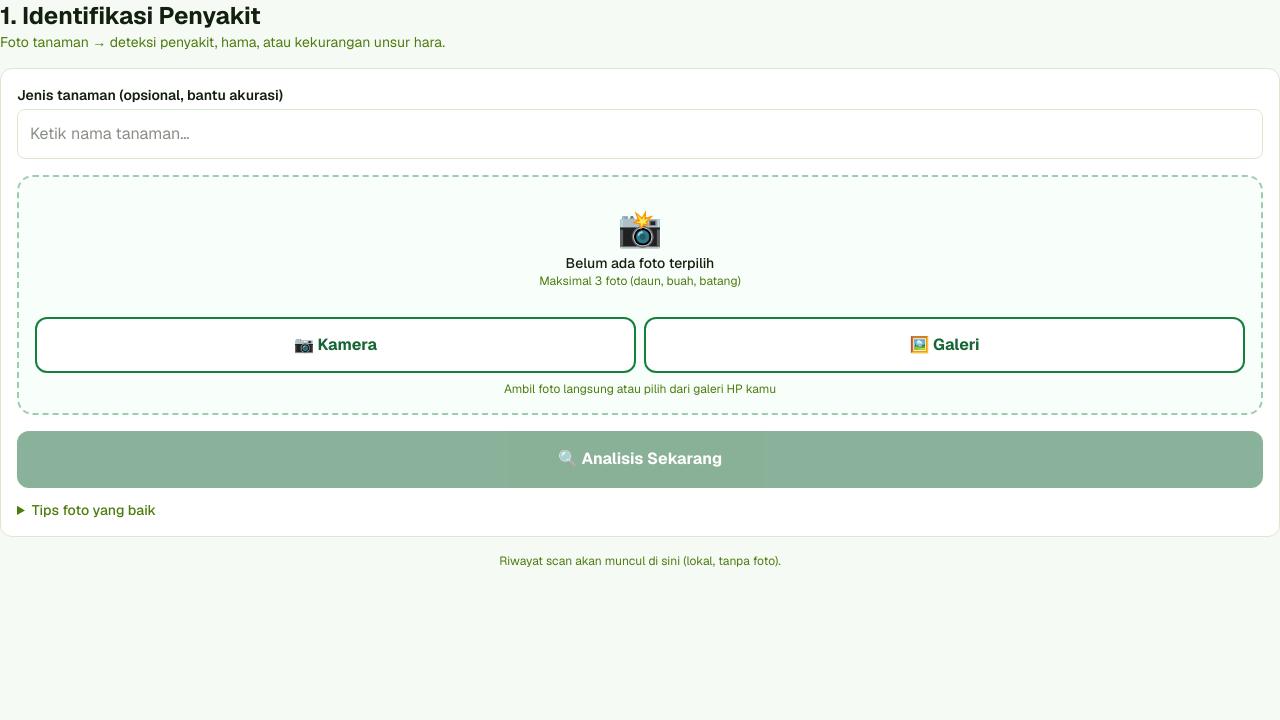
Test: IdentifikasiClient — pemilih tanaman ketik-lalu-klik (semua Tier) › menampilkan daftar & bisa memilih tanaman Tier A
Type "cabai" into the dropdown with id "cari-tanaman-identifikasi".
click(640, 134); type("cabai")  # box 17,109 -> 1263,159
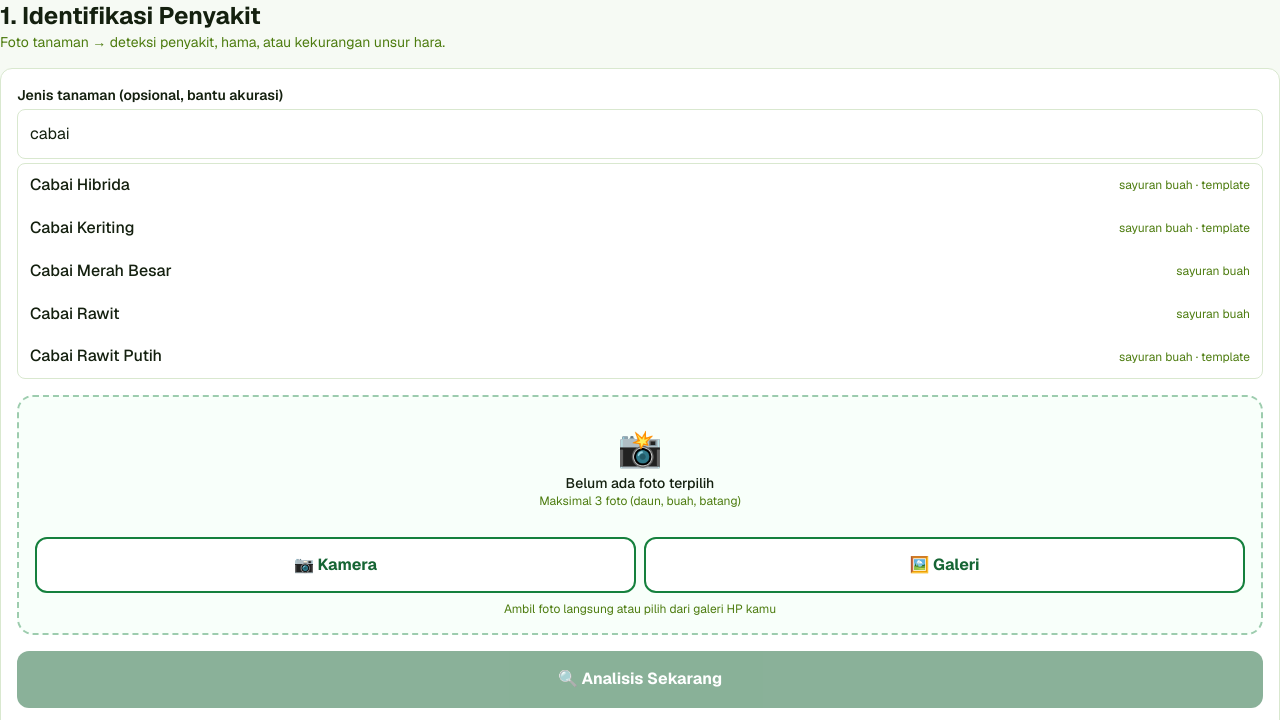
Click the button "Cabai Hibrida sayuran buah · template".
click(80, 184)  # box 18,164 -> 1262,207
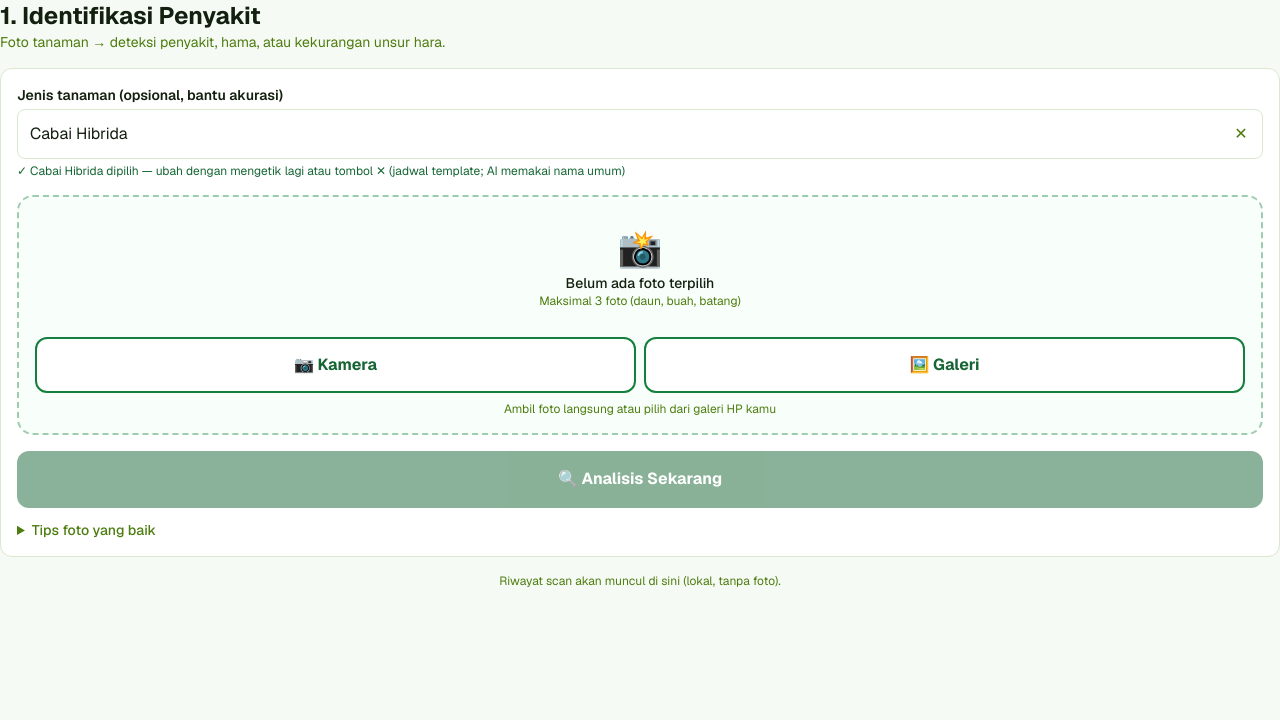
Now the dropdown with id "cari-tanaman-identifikasi" is not empty, box 17,109 -> 1263,159
Now the text "dipilih — ubah dengan mengetik" is shown, box 103,163 -> 386,179
